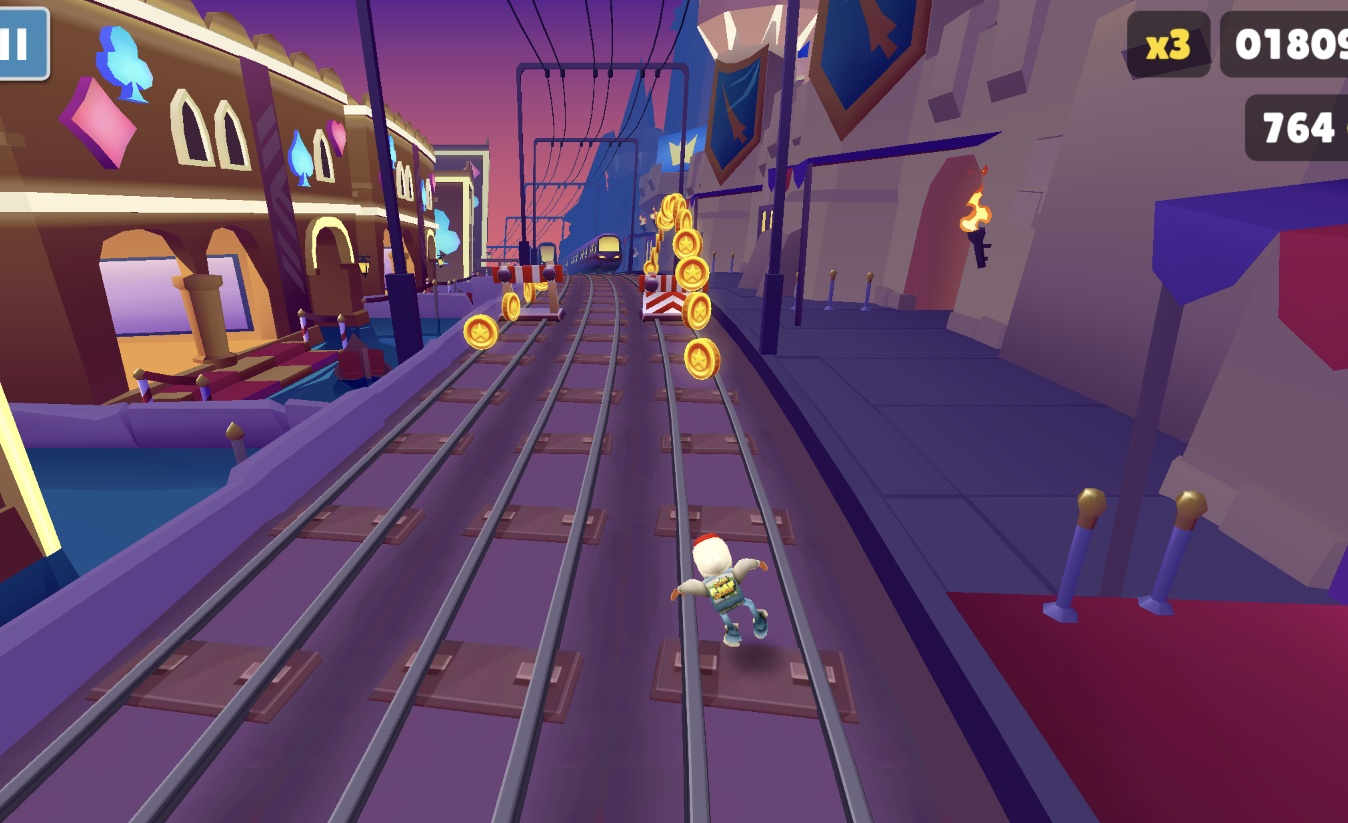ground_barrier: (490, 259, 567, 322), (640, 272, 700, 321)
train: (562, 235, 622, 274), (536, 242, 559, 267)
